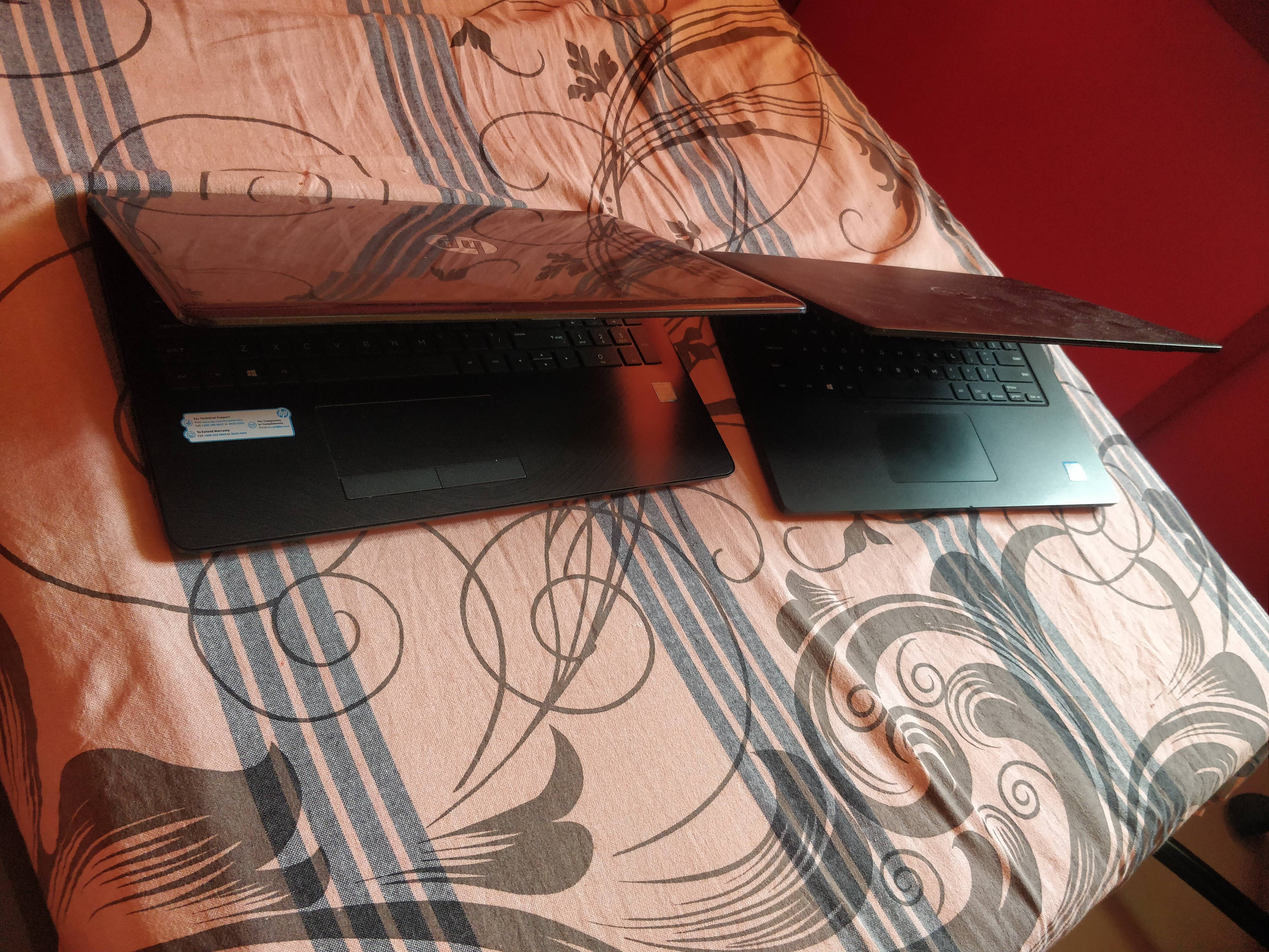Electronics: (36, 174, 818, 569), (687, 236, 1237, 543)
